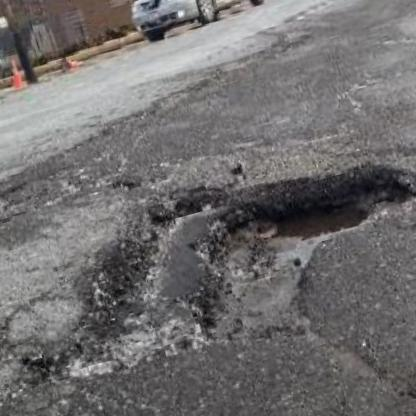pothole: (28, 129, 416, 387), (0, 179, 33, 249)
